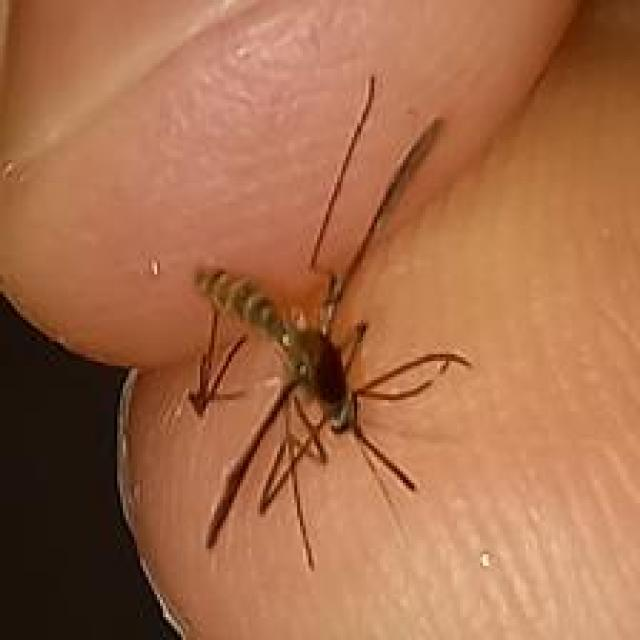Culex: (184, 71, 473, 572)
